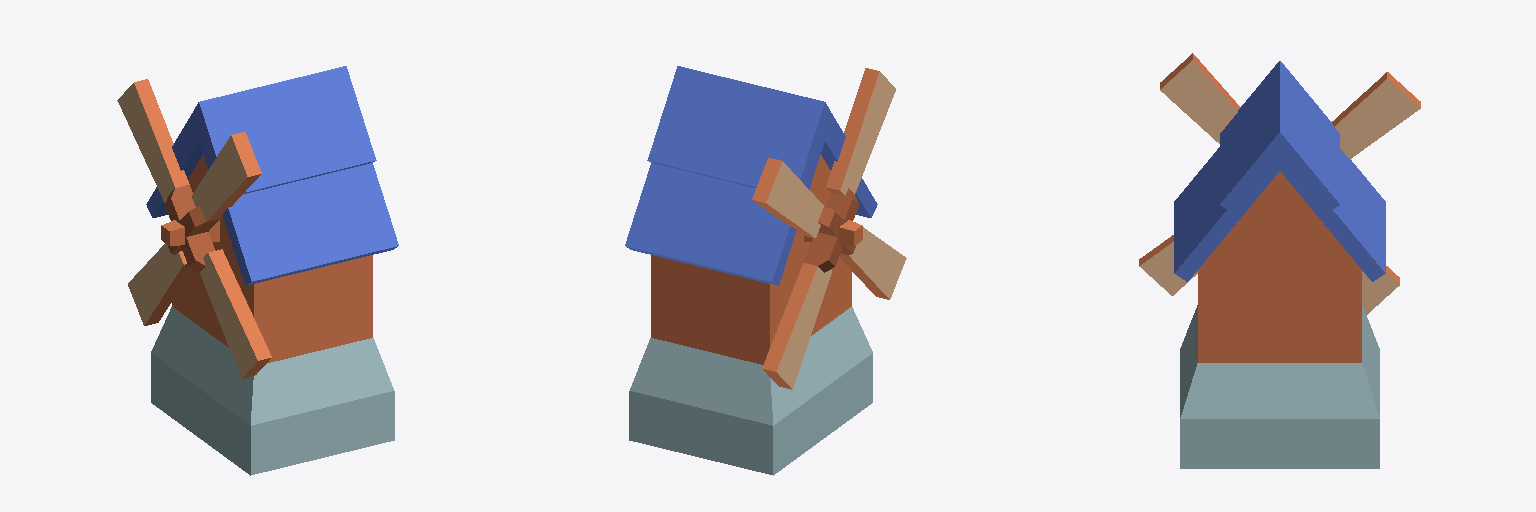
The model's file is unit_mill.obj.
3 views of the same model, side by side, from view 1: azimuth 30°, elevation 25°; view 2: azimuth 150°, elevation 25°; view 3: azimuth 270°, elevation 25° (orthographic).
Parts seen in each view (by area): view 1: unit_mill, mill; view 2: unit_mill, mill; view 3: unit_mill, mill.
Part boxes in pixels (left/top/right/bottom): unit_mill: left=146, top=66, right=398, bottom=475; mill: left=117, top=79, right=271, bottom=378; unit_mill: left=625, top=66, right=877, bottom=475; mill: left=752, top=68, right=906, bottom=389; unit_mill: left=1174, top=61, right=1385, bottom=468; mill: left=1139, top=53, right=1420, bottom=314.
Bounding box in the file's own units: 0.38 × 0.6811 × 0.5121.